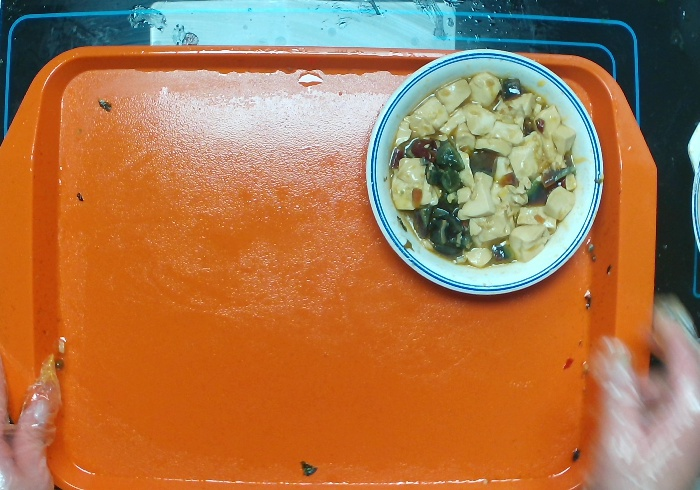HZYJPL-Lan_Bian_Yuan_Die: (351, 41, 612, 311)
